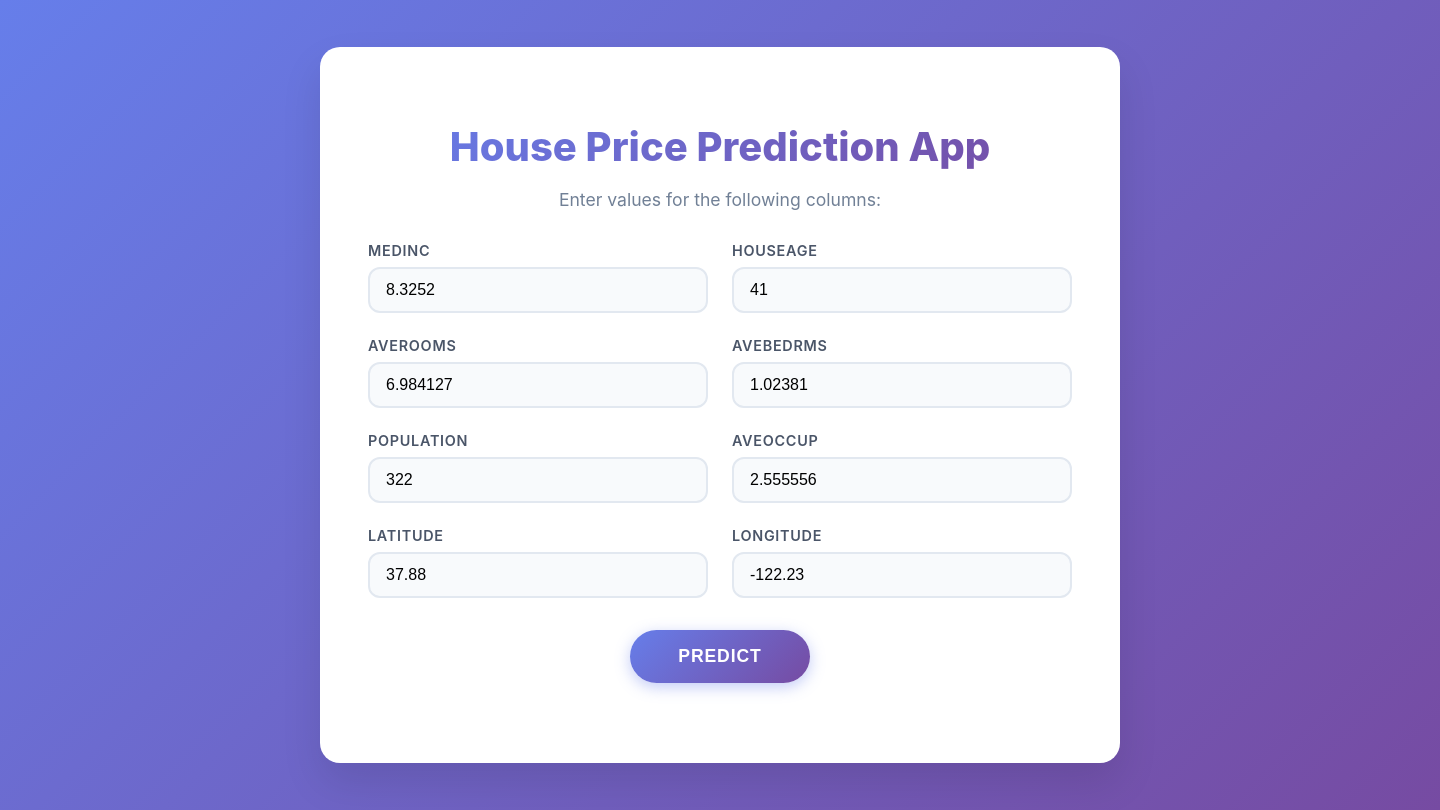
Test: House Price Prediction App › displays error message on API failure
Click the button "Predict" at (720,656), box [630,630,810,683]
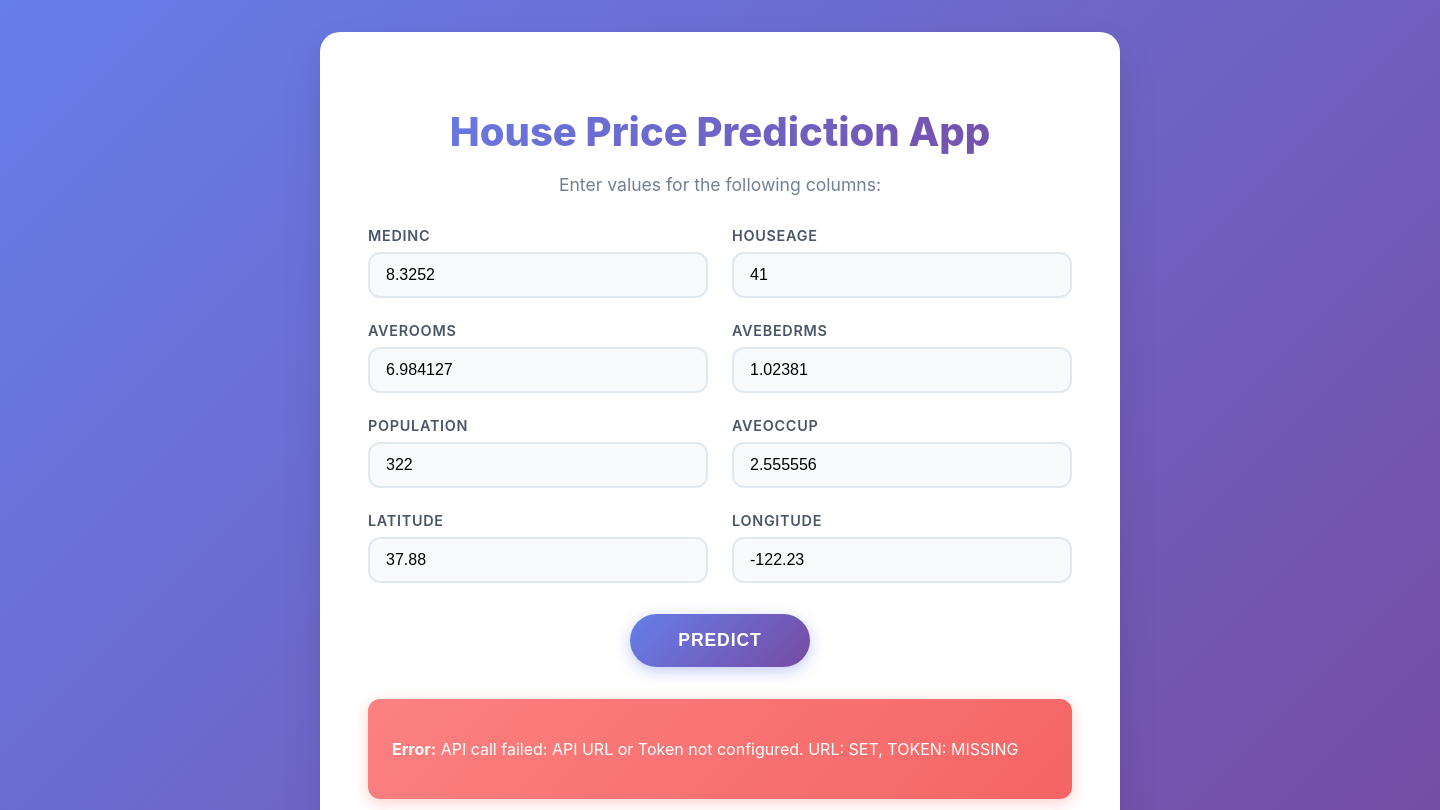
Expected: the text "Error:" is shown, [392,739,436,759]
